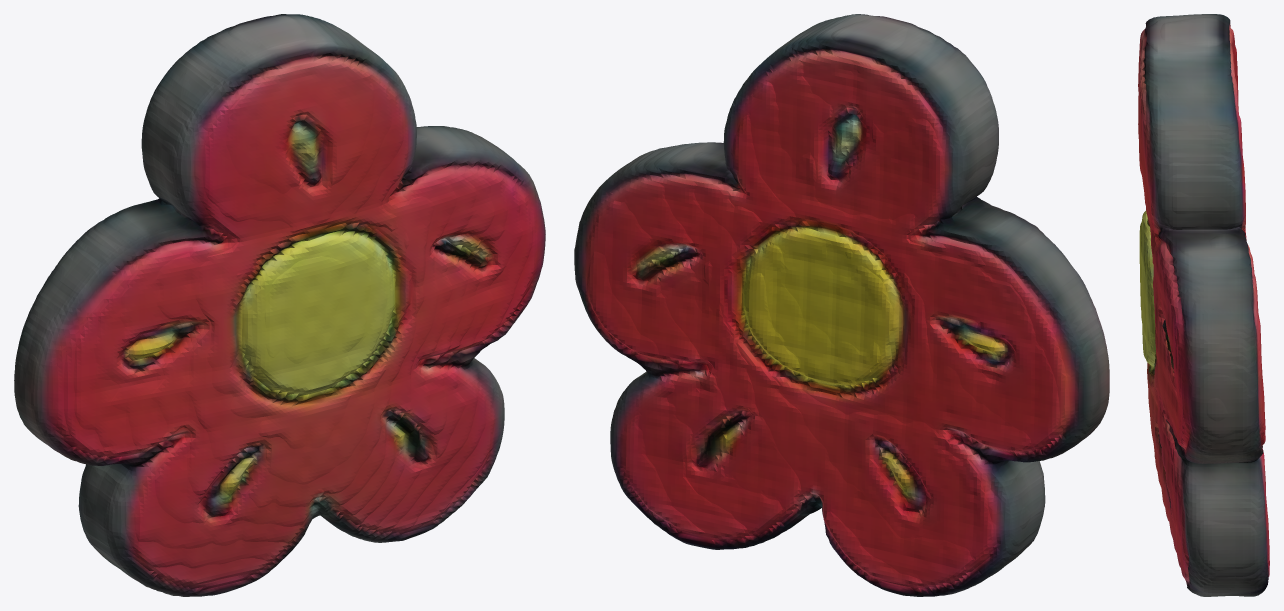
The picture shows the model from 3 angles, left to right: view 1: azimuth 30°, elevation 25°; view 2: azimuth 150°, elevation 25°; view 3: azimuth 270°, elevation 25°; orthographic projection. The views are drawn at different scales.
Visible parts, largest first — view 1: world; view 2: world; view 3: world.
Boxes of the visible parts, left/top/right/bottom form: world: left=14, top=14, right=545, bottom=596; world: left=574, top=14, right=1109, bottom=596; world: left=1138, top=14, right=1269, bottom=596.
Bounding box in the file's own units: 0.9678 × 0.9737 × 0.2315.
